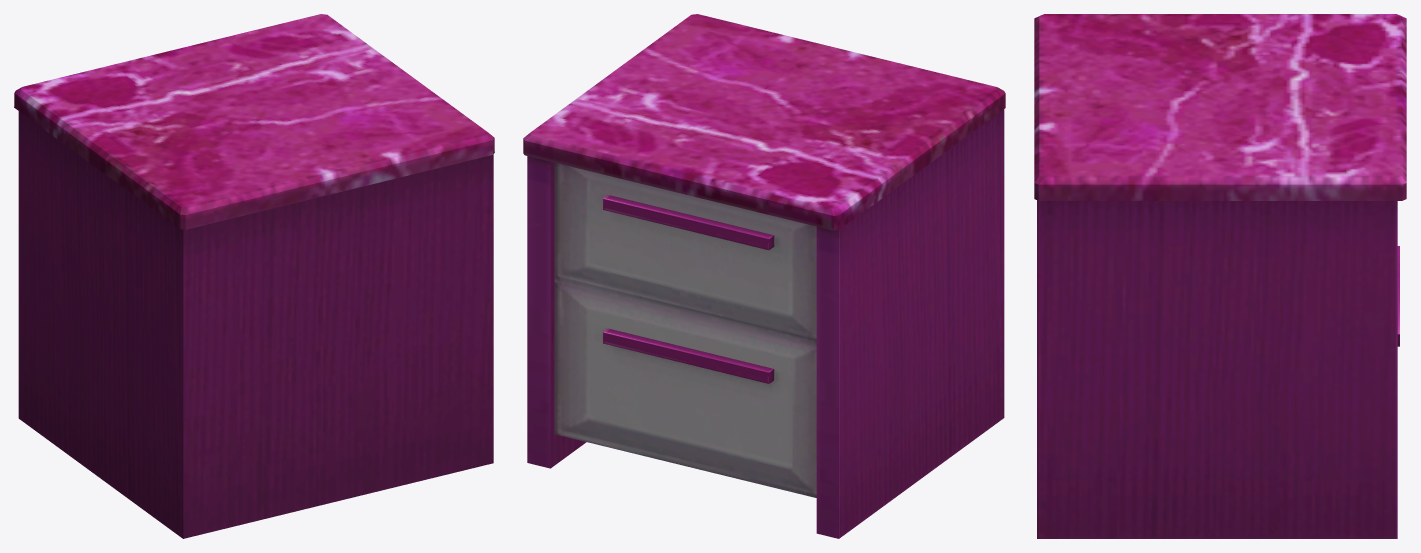
Rendered from furni_0200522_01.FBX.
The picture shows the model from 3 angles, left to right: view 1: azimuth 30°, elevation 25°; view 2: azimuth 150°, elevation 25°; view 3: azimuth 270°, elevation 25°; orthographic projection. The views are drawn at different scales.
Visible parts, largest first — view 1: furni_0200522_01; view 2: furni_0200522_01; view 3: furni_0200522_01.
Boxes of the visible parts, bbox=[...] form: furni_0200522_01: bbox=[14, 14, 494, 538]; furni_0200522_01: bbox=[523, 14, 1005, 538]; furni_0200522_01: bbox=[1034, 14, 1406, 538].
Bounding box in the file's own units: 80.03 × 79.98 × 74.96.
Materials: 1 (1 with a texture image).
